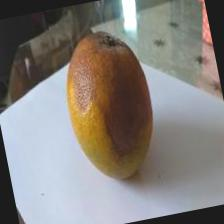Orange Rotten: (51, 12, 182, 206)
